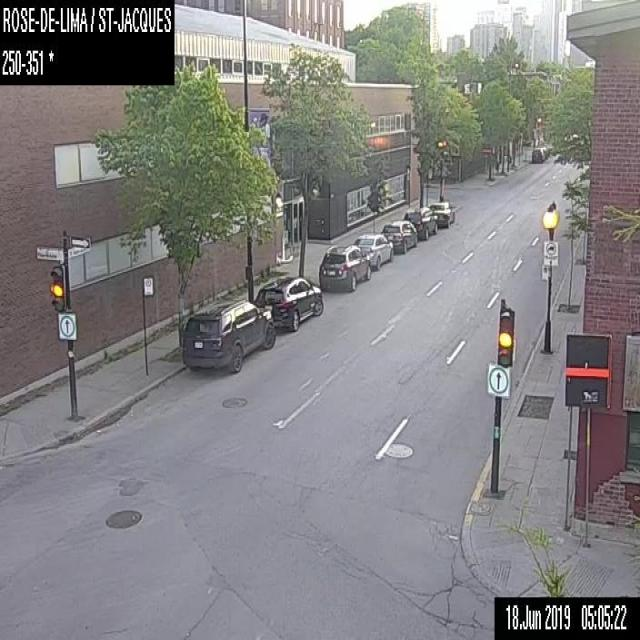vehicle: (180, 297, 273, 373), (256, 273, 324, 327), (318, 243, 371, 290), (352, 232, 395, 270), (382, 218, 416, 250), (404, 206, 438, 236), (429, 198, 454, 226), (530, 147, 544, 163)
